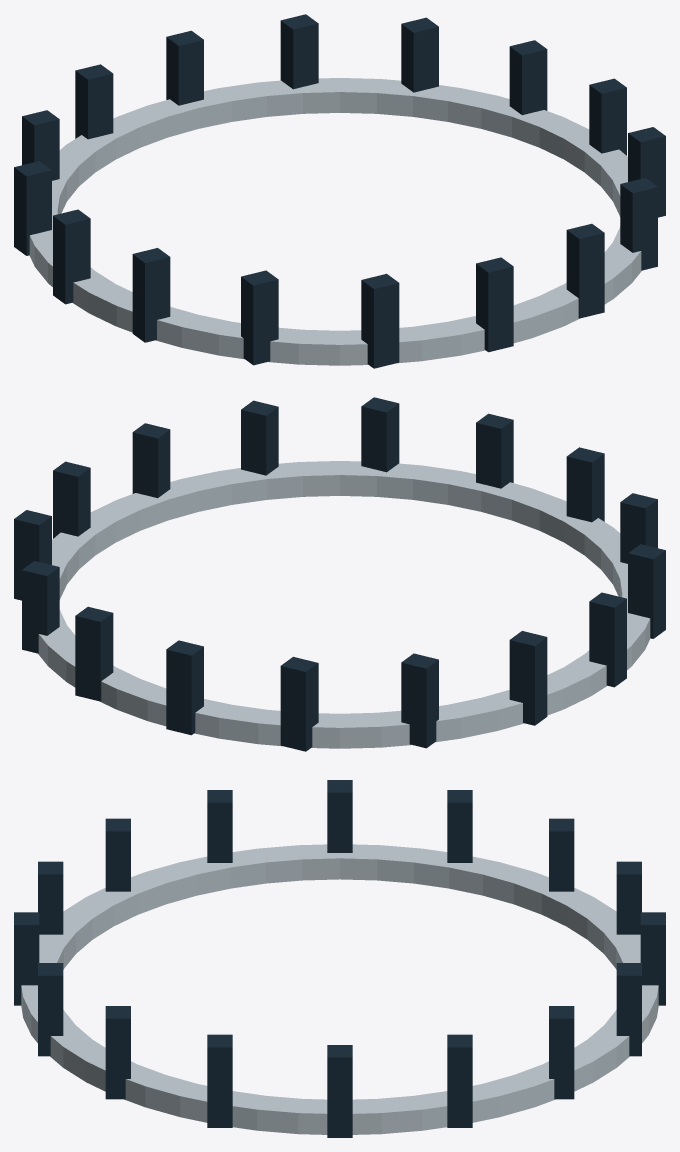
File: 22_L76_ProtectedAnodeBasket.fbx
The picture shows the model from 3 angles, top to bottom: view 1: azimuth 30°, elevation 25°; view 2: azimuth 150°, elevation 25°; view 3: azimuth 270°, elevation 25°; orthographic projection.
Parts seen in each view (by area): view 1: ProtectedAnodeBasket, ProtectedAnodeBasket_Part_0006, ProtectedAnodeBasket_Part_0004, ProtectedAnodeBasket_Part_0005, ProtectedAnodeBasket_Part_0007, ProtectedAnodeBasket_Part_0008, ProtectedAnodeBasket_Part_0009, ProtectedAnodeBasket_Part_0003, ProtectedAnodeBasket_Part_0010, ProtectedAnodeBasket_Part_0012, ProtectedAnodeBasket_Part_0016, ProtectedAnodeBasket_Part_0014 (+5 smaller); view 2: ProtectedAnodeBasket, ProtectedAnodeBasket_Part_0012, ProtectedAnodeBasket_Part_0013, ProtectedAnodeBasket_Part_0014, ProtectedAnodeBasket_Part_0011, ProtectedAnodeBasket_Part_0010, ProtectedAnodeBasket_Part_0009, ProtectedAnodeBasket_Part_0015, ProtectedAnodeBasket_Part_0008, ProtectedAnodeBasket_Part_0006, ProtectedAnodeBasket_Part_0002, ProtectedAnodeBasket_Part_0004 (+5 smaller); view 3: ProtectedAnodeBasket, ProtectedAnodeBasket_Part_0002, ProtectedAnodeBasket_Part_0016, ProtectedAnodeBasket_Part_0001, ProtectedAnodeBasket_Part_0003, ProtectedAnodeBasket_Part_0015, ProtectedAnodeBasket_Part_0004, ProtectedAnodeBasket_Part_0014, ProtectedAnodeBasket_Part_0005, ProtectedAnodeBasket_Part_0013, ProtectedAnodeBasket_Part_0007, ProtectedAnodeBasket_Part_0011 (+5 smaller).
Part boxes in pixels (left/top/right/bottom): ProtectedAnodeBasket: left=29, top=78, right=641, bottom=365; ProtectedAnodeBasket_Part_0006: left=361, top=273, right=399, bottom=368; ProtectedAnodeBasket_Part_0004: left=566, top=223, right=604, bottom=318; ProtectedAnodeBasket_Part_0005: left=476, top=257, right=513, bottom=352; ProtectedAnodeBasket_Part_0007: left=241, top=270, right=278, bottom=365; ProtectedAnodeBasket_Part_0008: left=132, top=248, right=170, bottom=342; ProtectedAnodeBasket_Part_0009: left=53, top=209, right=90, bottom=304; ProtectedAnodeBasket_Part_0003: left=620, top=178, right=657, bottom=270; ProtectedAnodeBasket_Part_0010: left=14, top=161, right=51, bottom=255; ProtectedAnodeBasket_Part_0012: left=75, top=64, right=113, bottom=139; ProtectedAnodeBasket_Part_0016: left=509, top=40, right=547, bottom=115; ProtectedAnodeBasket_Part_0014: left=280, top=14, right=318, bottom=89; ProtectedAnodeBasket: left=38, top=461, right=650, bottom=748; ProtectedAnodeBasket_Part_0012: left=280, top=656, right=318, bottom=751; ProtectedAnodeBasket_Part_0013: left=166, top=640, right=203, bottom=735; ProtectedAnodeBasket_Part_0014: left=75, top=606, right=113, bottom=701; ProtectedAnodeBasket_Part_0011: left=401, top=653, right=438, bottom=748; ProtectedAnodeBasket_Part_0010: left=509, top=631, right=547, bottom=725; ProtectedAnodeBasket_Part_0009: left=589, top=592, right=626, bottom=687; ProtectedAnodeBasket_Part_0015: left=22, top=561, right=59, bottom=653; ProtectedAnodeBasket_Part_0008: left=628, top=544, right=665, bottom=638; ProtectedAnodeBasket_Part_0006: left=566, top=447, right=604, bottom=522; ProtectedAnodeBasket_Part_0002: left=132, top=423, right=170, bottom=498; ProtectedAnodeBasket_Part_0004: left=361, top=397, right=399, bottom=472; ProtectedAnodeBasket: left=21, top=844, right=658, bottom=1134; ProtectedAnodeBasket_Part_0002: left=207, top=1034, right=232, bottom=1127; ProtectedAnodeBasket_Part_0016: left=447, top=1034, right=472, bottom=1127; ProtectedAnodeBasket_Part_0001: left=327, top=1045, right=352, bottom=1137; ProtectedAnodeBasket_Part_0003: left=105, top=1006, right=130, bottom=1099; ProtectedAnodeBasket_Part_0015: left=549, top=1006, right=574, bottom=1099; ProtectedAnodeBasket_Part_0004: left=38, top=963, right=63, bottom=1056; ProtectedAnodeBasket_Part_0014: left=616, top=963, right=641, bottom=1056; ProtectedAnodeBasket_Part_0005: left=14, top=912, right=39, bottom=1005; ProtectedAnodeBasket_Part_0013: left=640, top=912, right=665, bottom=1005; ProtectedAnodeBasket_Part_0007: left=105, top=818, right=130, bottom=891; ProtectedAnodeBasket_Part_0011: left=549, top=818, right=574, bottom=891.
Size of the model in its own units: 310 by 42.5 by 308.
